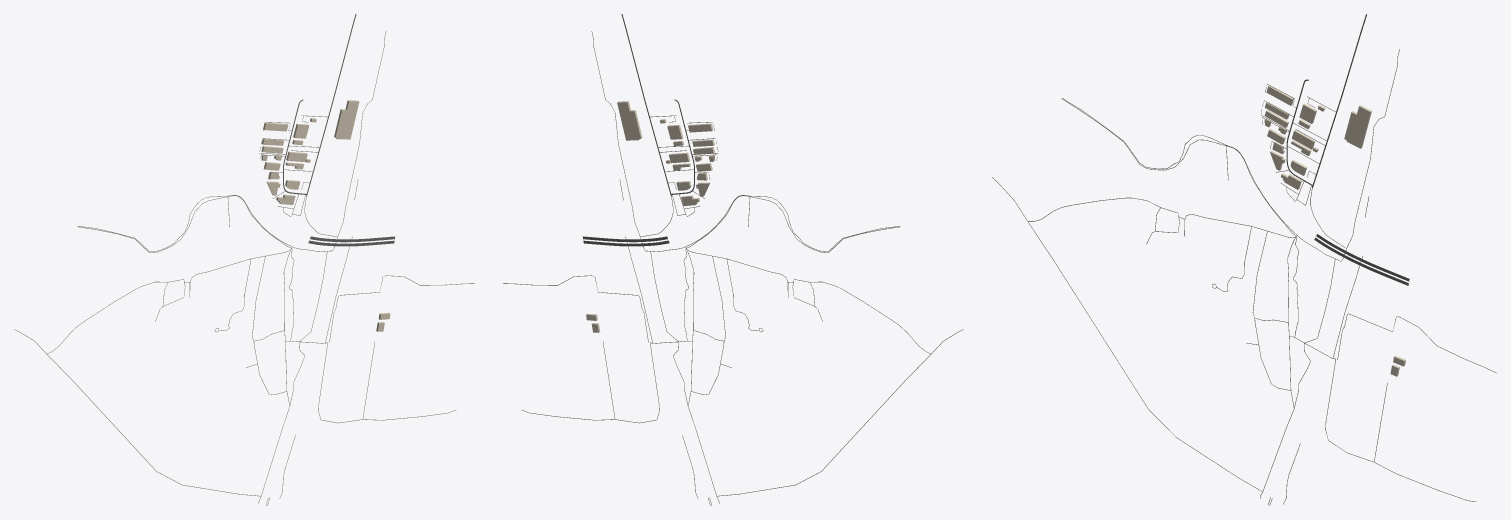
Rendered from historic-palestine-07_28_3485_3225.glb.
The picture shows the model from 3 angles, left to right: view 1: azimuth 30°, elevation 25°; view 2: azimuth 150°, elevation 25°; view 3: azimuth 330°, elevation 25°; orthographic projection. The views are drawn at different scales.
Parts seen in each view (by area): view 1: Building_; view 2: Building_; view 3: Building_.
Part boxes in pixels (x1,y1,x2,y2): Building_: (334, 100, 359, 139); Building_: (617, 101, 642, 140); Building_: (1344, 105, 1371, 148).
Bounding box in the file's own units: 1415 × 1381 × 8.7.
